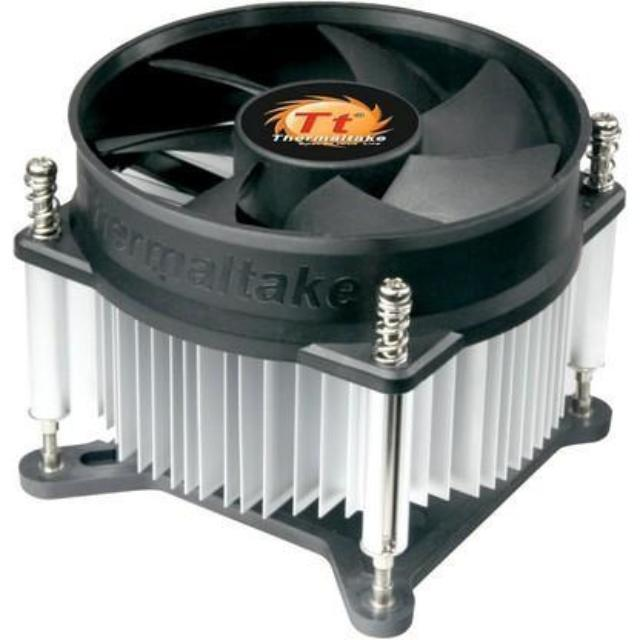CPU_Fan: (5, 0, 627, 632)
